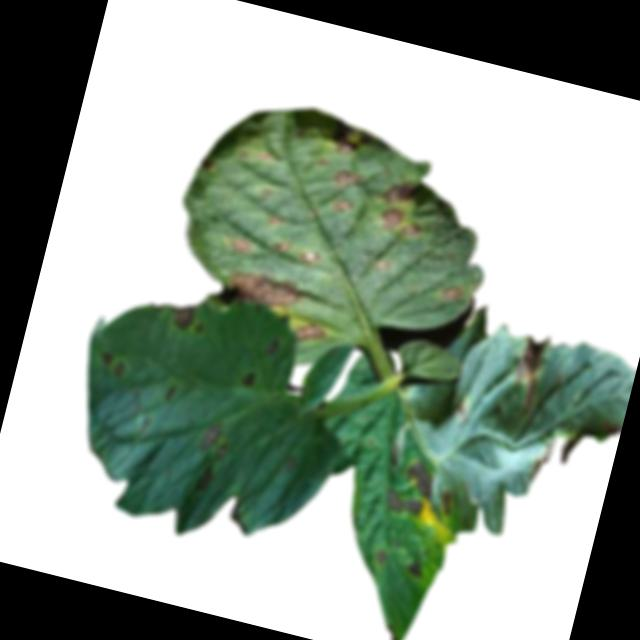Early_blight: (209, 262, 306, 329), (502, 329, 552, 417), (373, 202, 425, 243), (190, 418, 235, 463), (527, 431, 558, 488), (333, 120, 375, 160), (380, 486, 425, 521), (400, 459, 439, 498), (161, 299, 196, 335), (382, 173, 418, 207), (331, 165, 367, 196), (293, 320, 329, 349), (97, 350, 125, 379), (226, 233, 255, 260), (191, 464, 214, 498), (438, 279, 464, 305), (400, 557, 427, 582), (331, 195, 358, 218), (297, 246, 321, 269), (236, 367, 256, 392), (370, 547, 388, 567), (160, 384, 177, 403), (273, 239, 292, 256)
